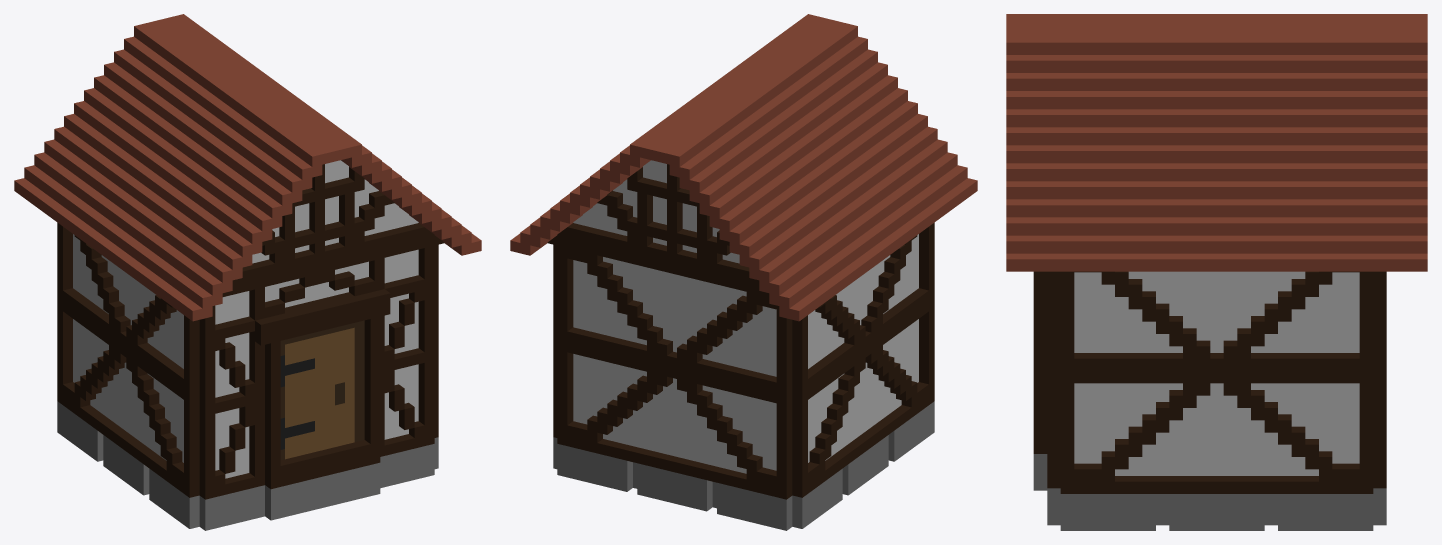
The model's file is House.fbx.
The picture shows the model from 3 angles, left to right: view 1: azimuth 30°, elevation 25°; view 2: azimuth 150°, elevation 25°; view 3: azimuth 270°, elevation 25°; orthographic projection. The views are drawn at different scales.
Parts seen in each view (by area): view 1: House; view 2: House; view 3: House.
Part boxes in pixels (bbox=[...]): House: bbox=[14, 14, 481, 530]; House: bbox=[510, 14, 977, 530]; House: bbox=[1006, 14, 1427, 530].
Bounding box in the file's own units: 290 × 350 × 310.
